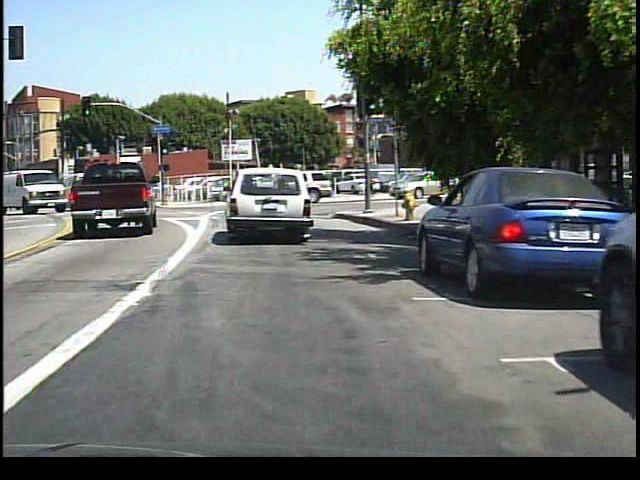person: (358, 166, 375, 200)
